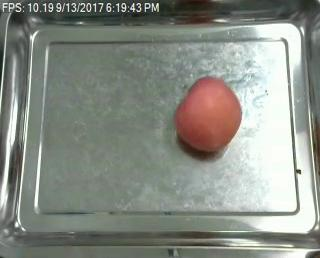apple: (173, 76, 242, 153)
